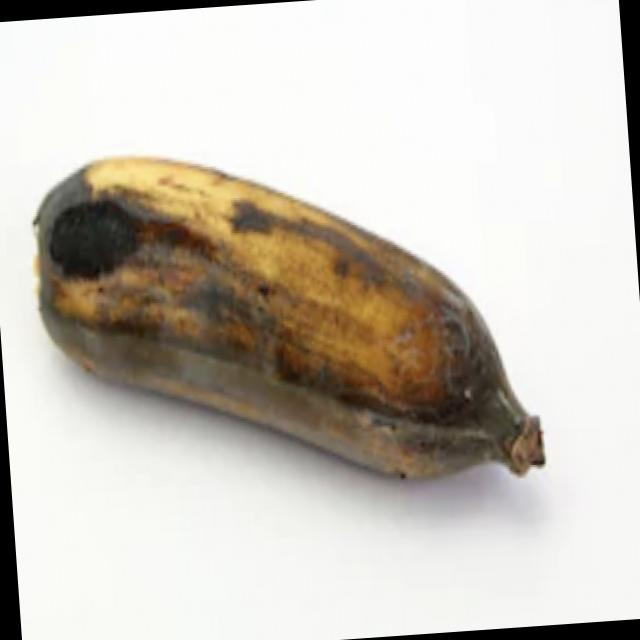rotten-banana: (22, 128, 538, 492)
